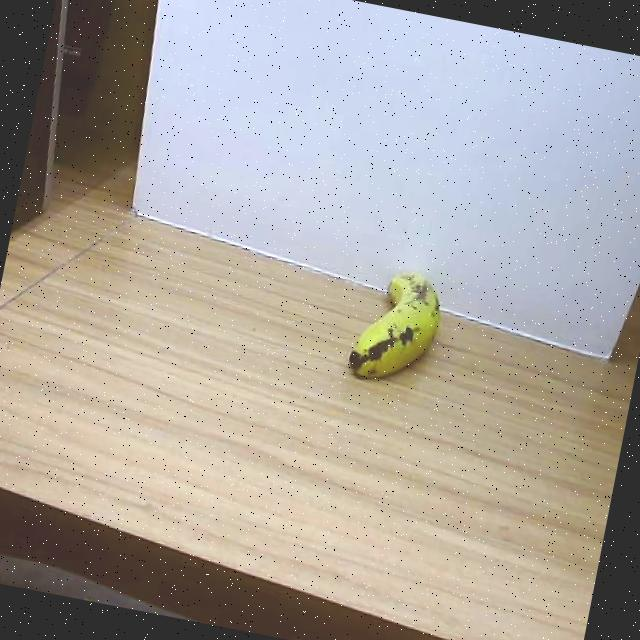Overripe: (338, 244, 463, 416)
